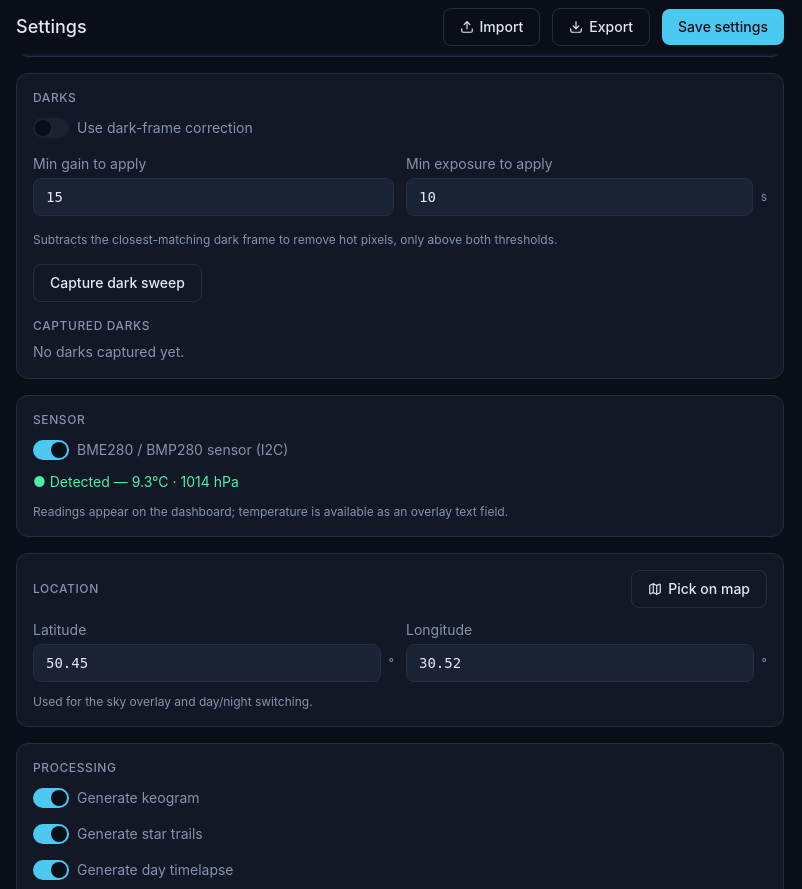
SettingsPage › shows live sensor status and saves the sensor toggle
(page scrolled)
Expected: the text "● Detected — 9.3°C · 1014 hPa" is shown, [33,473,239,490]
Step 1. Click the switch labelled "BME280 / BMP280 sensor (I2C)" → [51, 450], box [33,440,767,460]
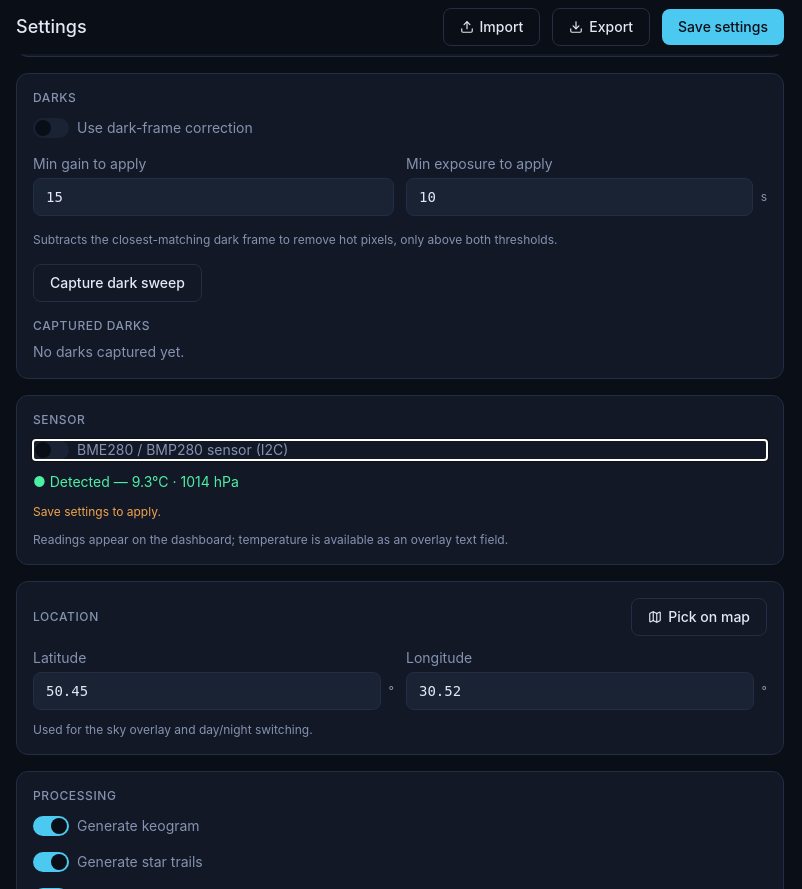
Expected: the text "Save settings to apply." is shown, [33,504,161,519]
Step 2. Click the button "Save settings" → [723, 27], box [662,9,784,45]
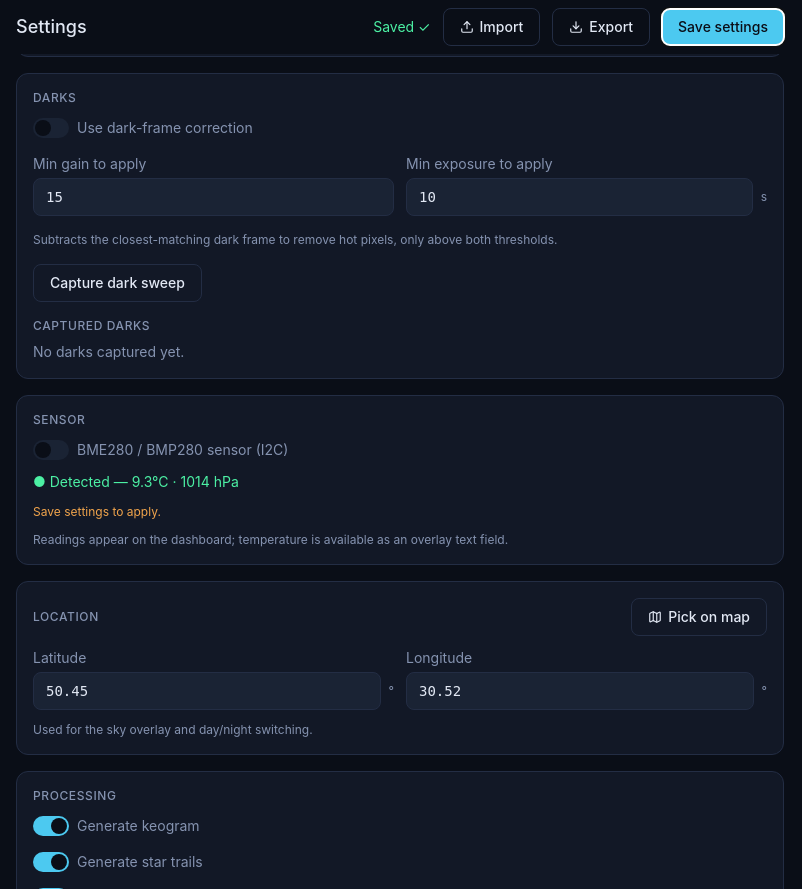
Expected: the text "Saved ✓" is shown, [373,17,430,37]
